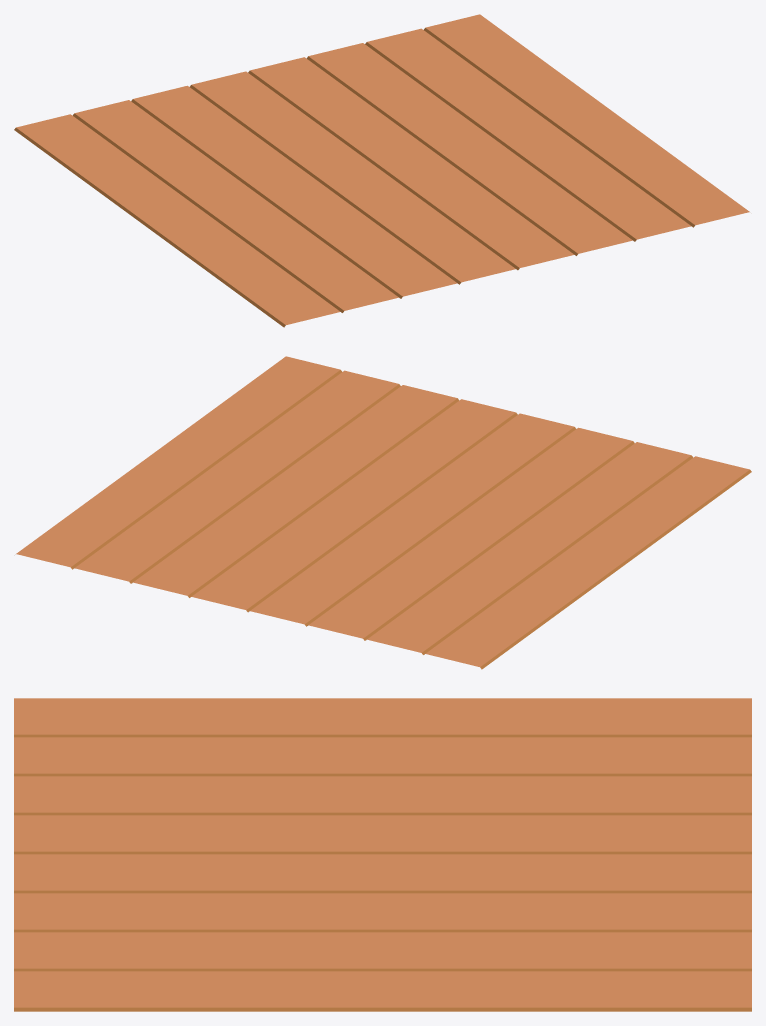
File: Floor_01.fbx
3 views of the same model, one above another, from view 1: azimuth 30°, elevation 25°; view 2: azimuth 150°, elevation 25°; view 3: azimuth 270°, elevation 25° (orthographic). The views are drawn at different scales.
Parts seen in each view (by area): view 1: Floor_01; view 2: Floor_01; view 3: Floor_01.
Part boxes in pixels (box(x1,y1,x2,y2)): Floor_01: box(14, 14, 749, 327); Floor_01: box(16, 356, 751, 669); Floor_01: box(14, 698, 751, 1011).
Size of the model in its own units: 200 by 0.8 by 200.
1 material, 1 textured.
